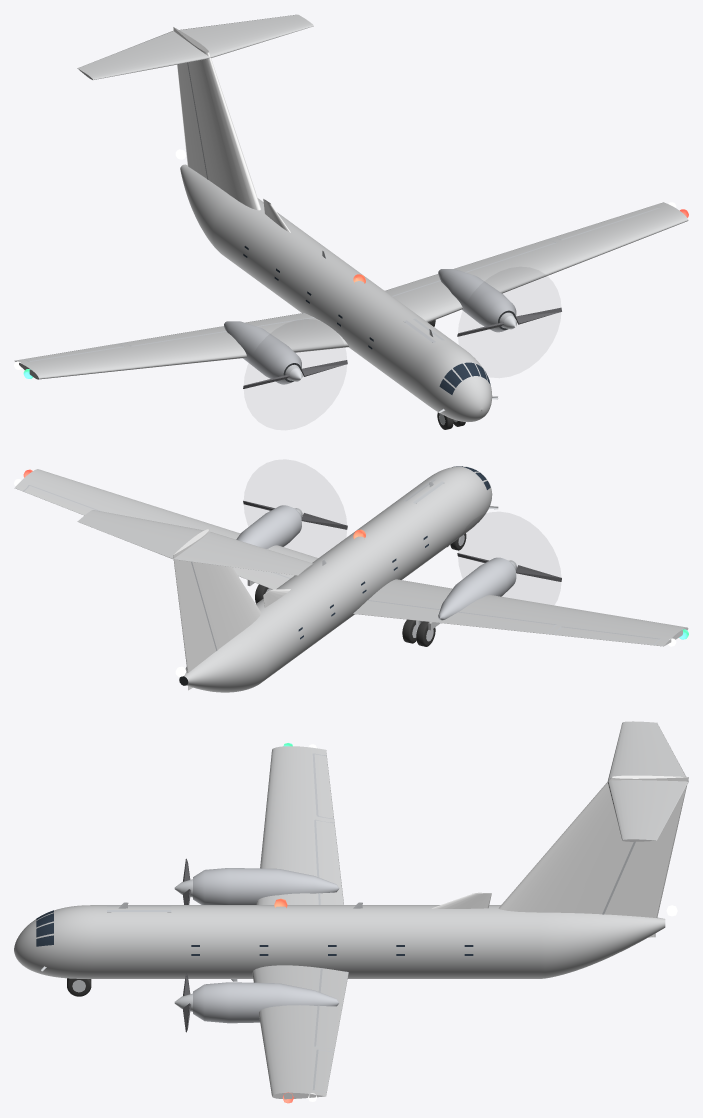
The picture shows the model from 3 angles, top to bottom: view 1: azimuth 30°, elevation 25°; view 2: azimuth 150°, elevation 25°; view 3: azimuth 270°, elevation 25°; orthographic projection. The views are drawn at different scales.
Parts seen in each view (by area): view 1: airframe; view 2: airframe, gear, prop (×2); view 3: airframe.
Boxes of the visible parts, x1,y1,x2,y2 form: airframe: (14,14,688,421); airframe: (14,466,688,692); gear: (247,533,466,646); prop (×2): (243,500,561,581); airframe: (14,721,688,1103).
Bounding box in the file's own units: 10.42 × 3.13 × 8.39.
